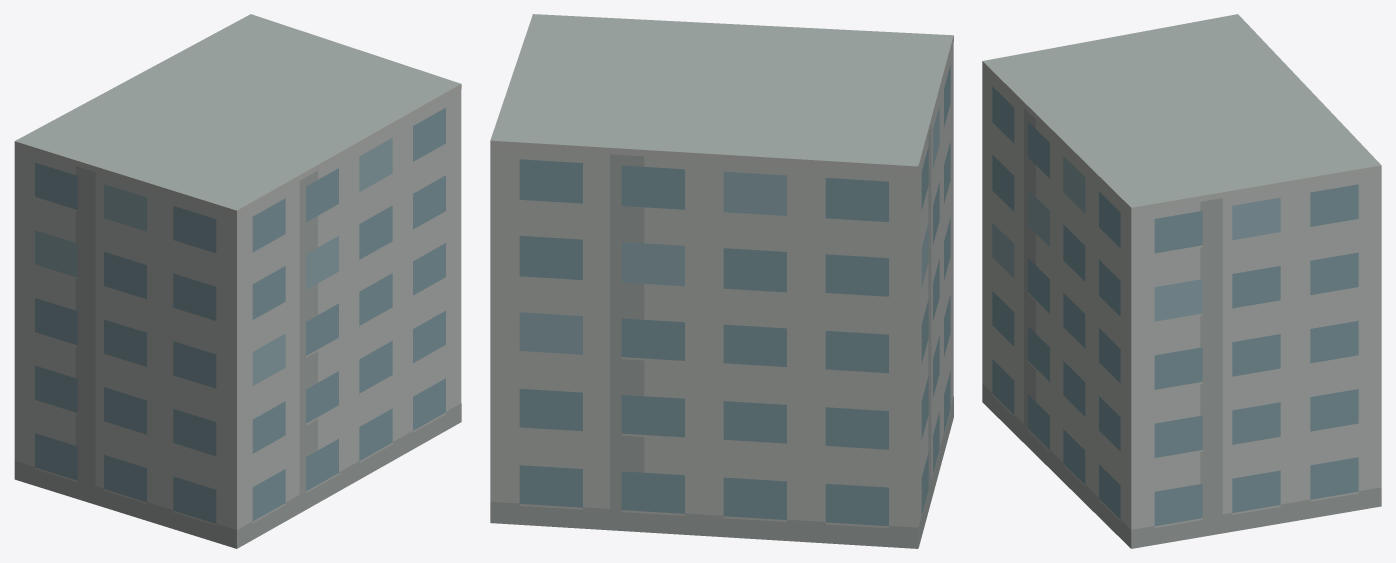
File: survey-upis-32860751.glb
The picture shows the model from 3 angles, left to right: view 1: azimuth 30°, elevation 25°; view 2: azimuth 150°, elevation 25°; view 3: azimuth 270°, elevation 25°; orthographic projection. The views are drawn at different scales.
Visible parts, largest first — view 1: survey-upis-32860751.tmp; view 2: survey-upis-32860751.tmp; view 3: survey-upis-32860751.tmp.
Part boxes in pixels (x1,y1,x2,y2): survey-upis-32860751.tmp: [14, 14, 461, 548]; survey-upis-32860751.tmp: [490, 14, 953, 548]; survey-upis-32860751.tmp: [982, 14, 1381, 548].
Bounding box in the file's own units: 17.8 × 14.6 × 15.5.
